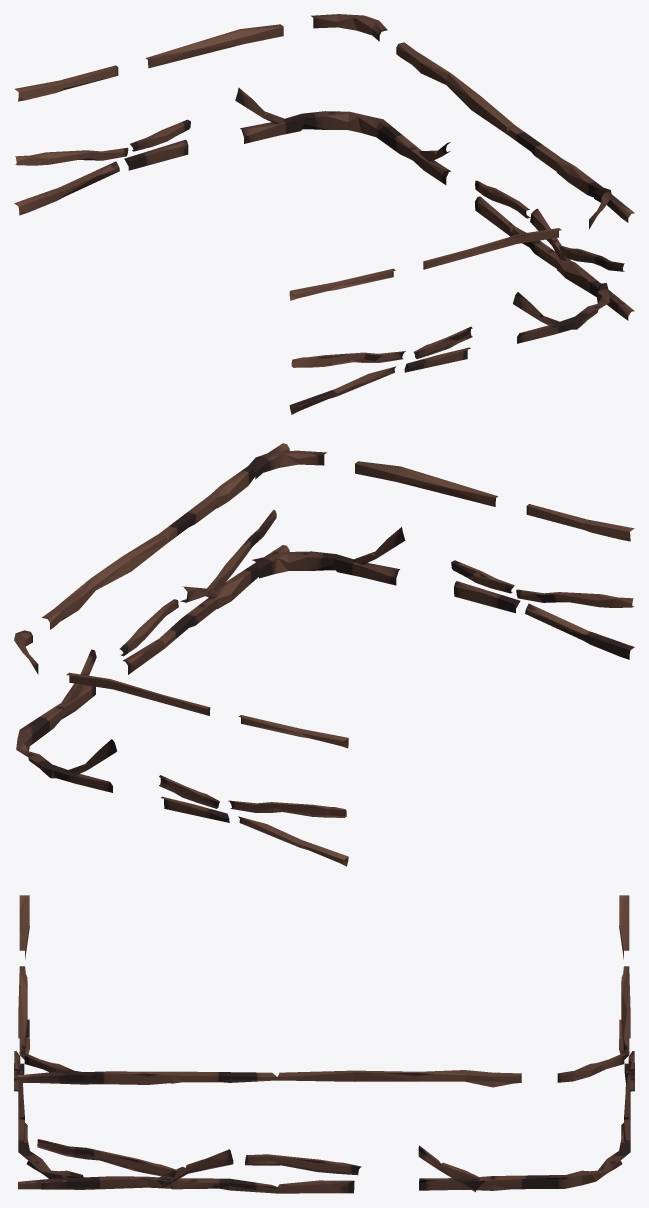
The model's file is Wood_01.FBX.
3 views of the same model, one above another, from view 1: azimuth 30°, elevation 25°; view 2: azimuth 150°, elevation 25°; view 3: azimuth 270°, elevation 25° (orthographic). The views are drawn at different scales.
Parts seen in each view (by area): view 1: Wood_01; view 2: Wood_01; view 3: Wood_01.
Part boxes in pixels (bbox=[...]): Wood_01: bbox=[14, 14, 634, 414]; Wood_01: bbox=[14, 443, 634, 866]; Wood_01: bbox=[14, 895, 634, 1193].
Size of the model in its own units: 17.47 by 6.28 by 25.33.
